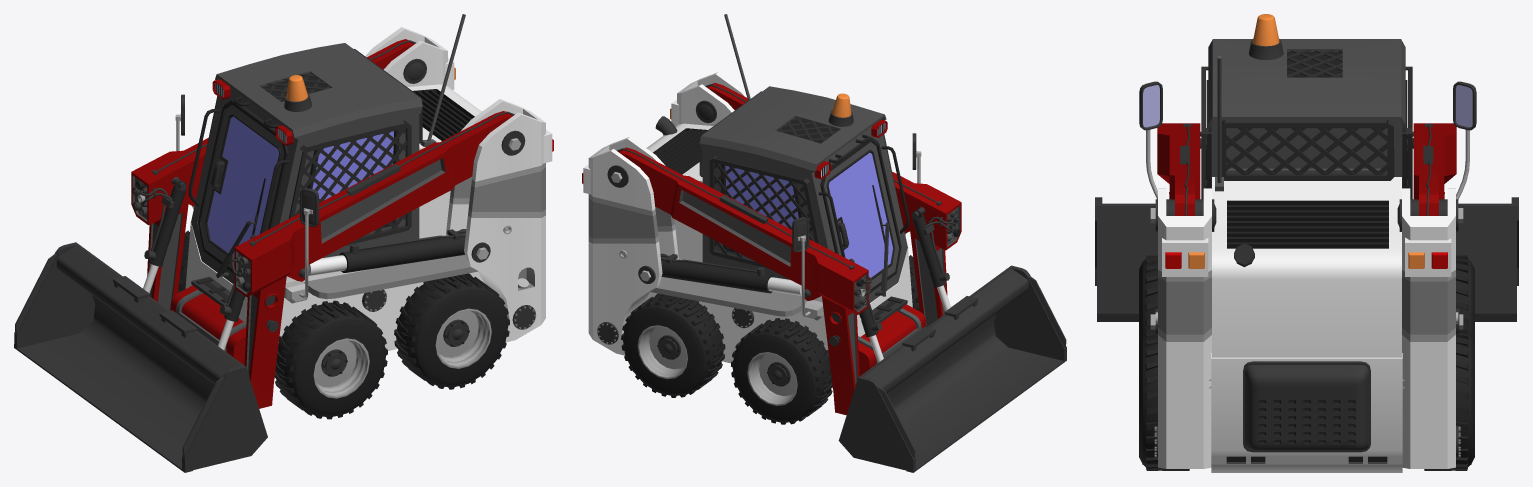
Rendered from skid_steer.glb.
The picture shows the model from 3 angles, left to right: view 1: azimuth 30°, elevation 25°; view 2: azimuth 150°, elevation 25°; view 3: azimuth 270°, elevation 25°; orthographic projection. The views are drawn at different scales.
Parts seen in each view (by area): view 1: Object022_Material #25_0; view 2: Object022_Material #25_0; view 3: Object022_Material #25_0.
Part boxes in pixels (x1,y1,x2,y2): Object022_Material #25_0: (14, 14, 553, 472); Object022_Material #25_0: (582, 14, 1066, 472); Object022_Material #25_0: (1095, 14, 1518, 472).
Bounding box in the file's own units: 132 × 107 × 96.33.
1 material, 1 textured.
